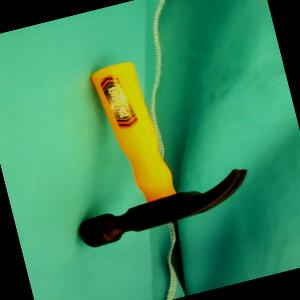martelo: (39, 39, 255, 250)
